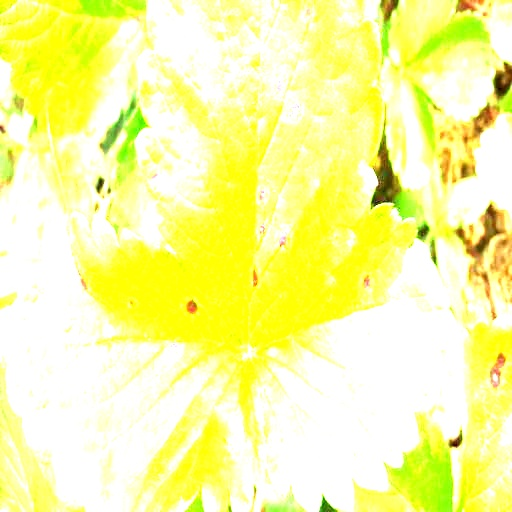Leaf Spot: (134, 0, 385, 348), (4, 212, 266, 511), (245, 201, 457, 511)
